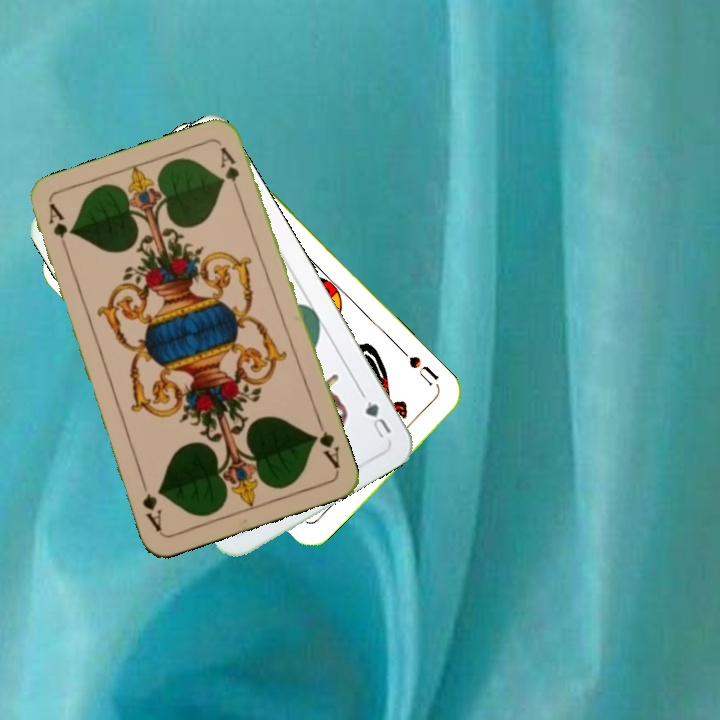GA: (309, 415, 343, 472), (44, 200, 73, 258)
GU: (357, 388, 394, 441)
SU: (404, 351, 442, 389)
